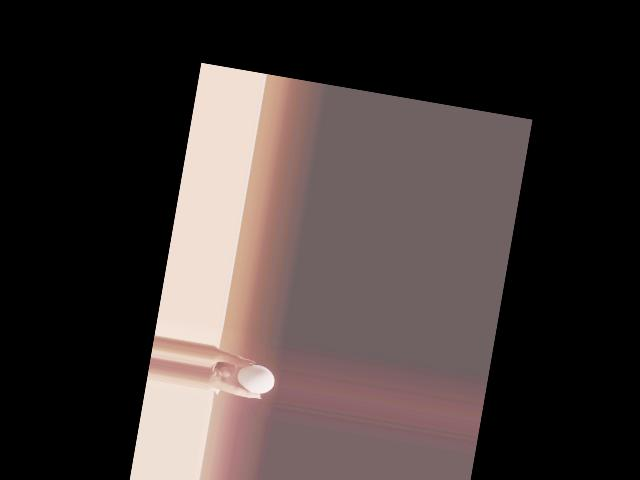egg: (234, 361, 276, 396)
